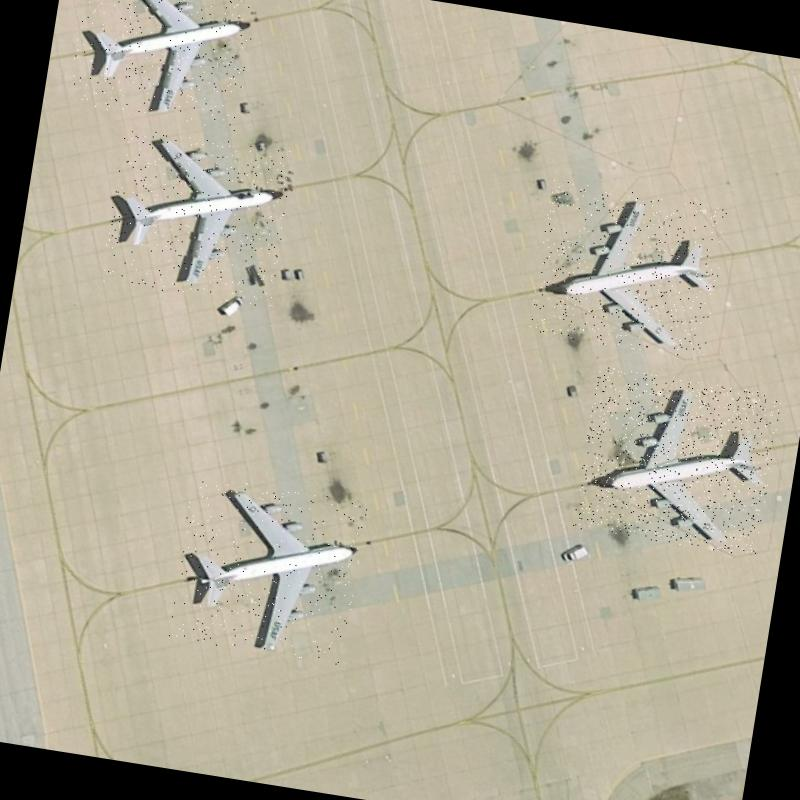A11: (572, 366, 782, 556), (167, 474, 368, 666), (528, 179, 728, 360), (100, 125, 295, 308), (66, 0, 259, 131)
